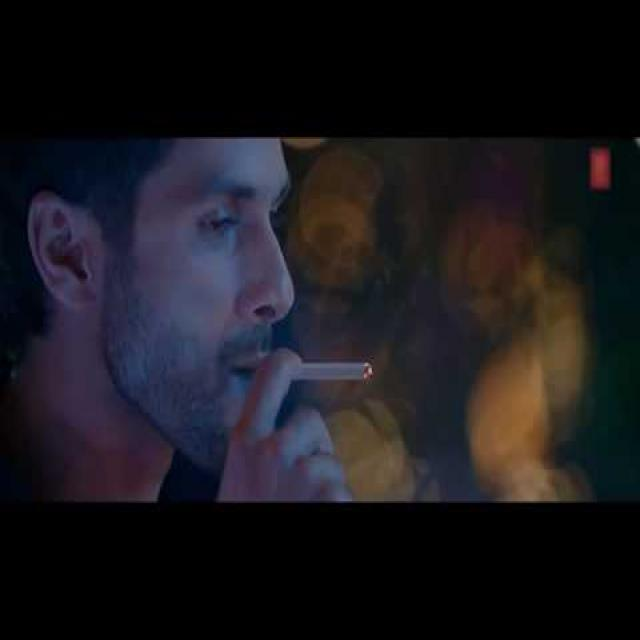cigarette: (288, 360, 378, 401)
